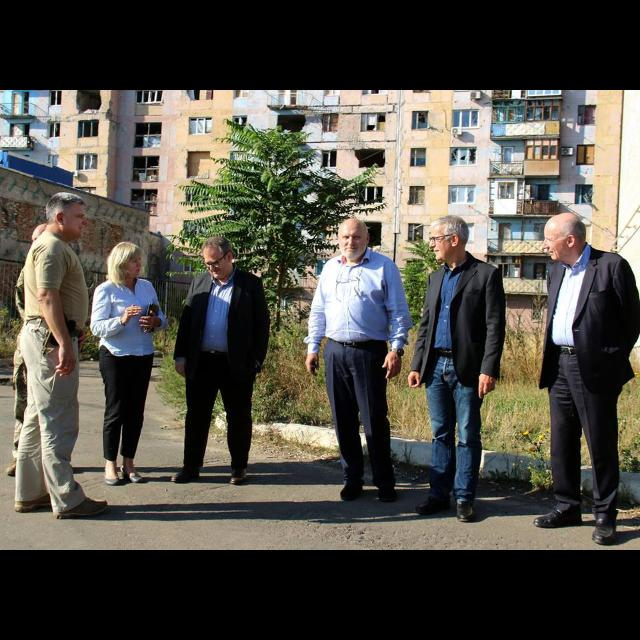head: (542, 212, 588, 262), (45, 192, 89, 242), (428, 215, 469, 263), (202, 237, 234, 279), (338, 218, 370, 260), (114, 242, 142, 280), (30, 222, 60, 254)
person: (9, 189, 113, 525), (406, 212, 512, 526), (302, 217, 416, 506), (167, 235, 273, 488), (88, 240, 172, 490), (2, 221, 82, 481)
